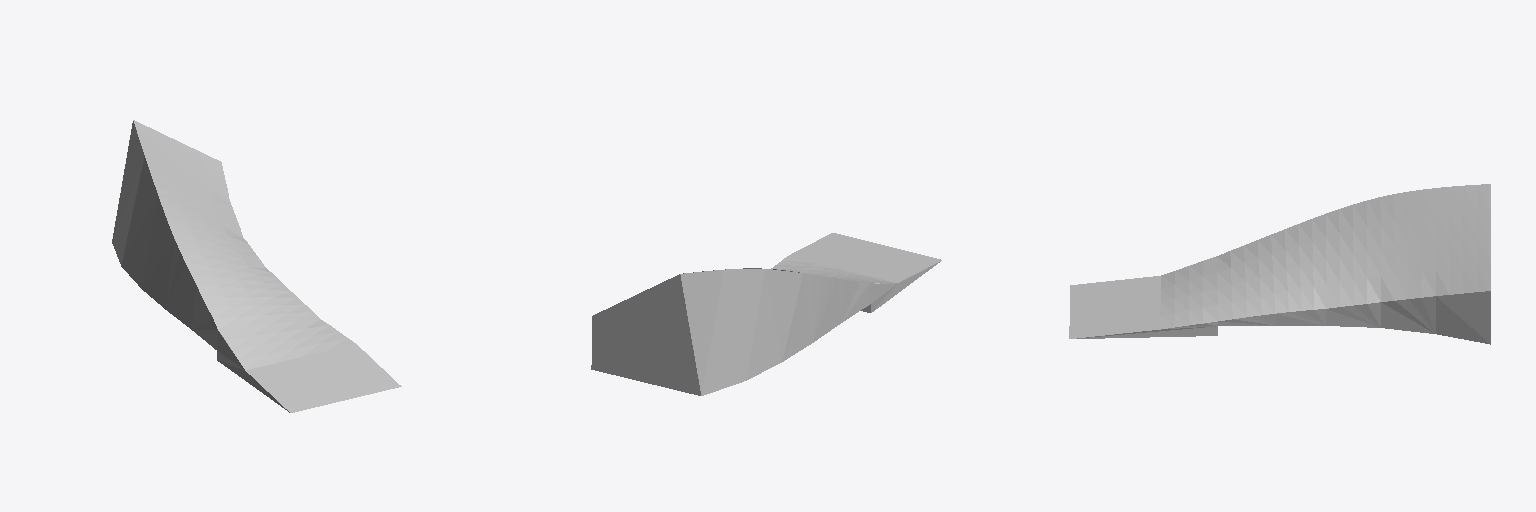
The model's file is curved_ramp_collision_very_detailed.obj.
3 views of the same model, side by side, from view 1: azimuth 30°, elevation 25°; view 2: azimuth 150°, elevation 25°; view 3: azimuth 270°, elevation 25° (orthographic).
Parts seen in each view (by area): view 1: rampsubdiv2_CurvedSlopeMainMesh_Cube.007; view 2: rampsubdiv2_CurvedSlopeMainMesh_Cube.007; view 3: rampsubdiv2_CurvedSlopeMainMesh_Cube.007.
Boxes of the visible parts, x1,y1,x2,y2 form: rampsubdiv2_CurvedSlopeMainMesh_Cube.007: [112, 120, 401, 412]; rampsubdiv2_CurvedSlopeMainMesh_Cube.007: [591, 233, 941, 395]; rampsubdiv2_CurvedSlopeMainMesh_Cube.007: [1069, 184, 1490, 344].
Bounding box in the file's own units: 1.63 × 1.39 × 4.18.